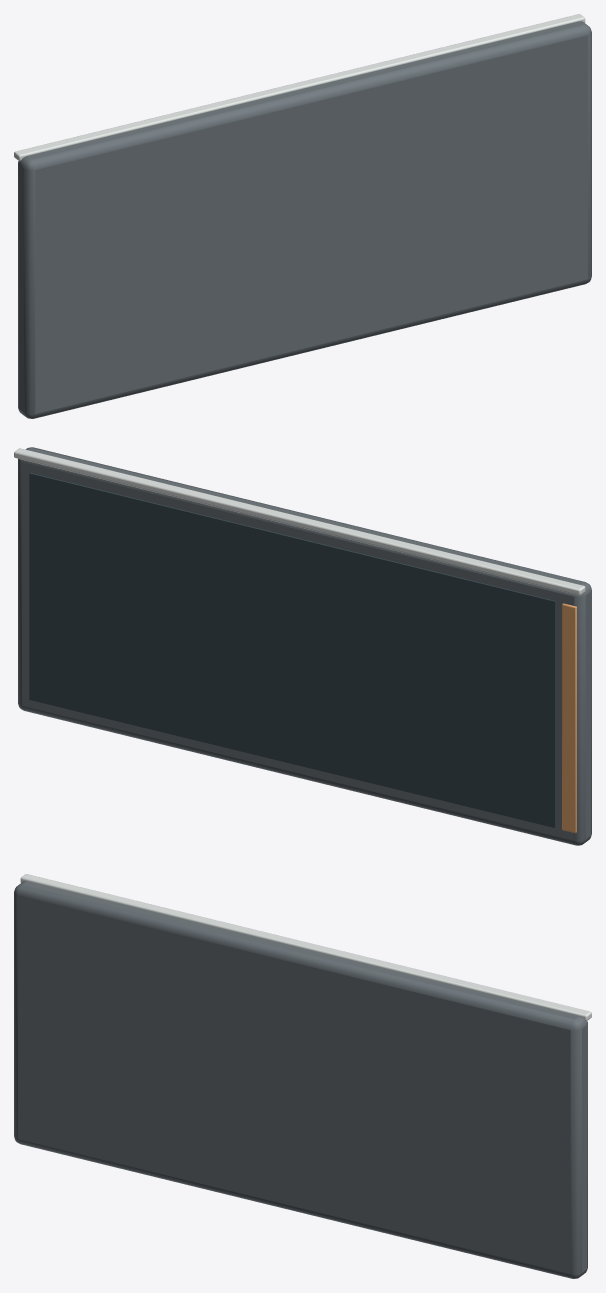
The model's file is wayfinding_panel.glb.
The picture shows the model from 3 angles, top to bottom: view 1: azimuth 30°, elevation 25°; view 2: azimuth 150°, elevation 25°; view 3: azimuth 330°, elevation 25°; orthographic projection.
Parts seen in each view (by area): view 1: frame_graphite, top_trim_satin_steel; view 2: display_screen_glass_dark_glass, frame_graphite, top_trim_satin_steel, side_bar_orange; view 3: frame_graphite, top_trim_satin_steel.
Boxes of the visible parts, box(x1,y1,x2,y2) form: frame_graphite: box(18, 21, 591, 418); top_trim_satin_steel: box(14, 14, 585, 161); display_screen_glass_dark_glass: box(29, 473, 555, 827); frame_graphite: box(18, 447, 591, 845); top_trim_satin_steel: box(14, 448, 585, 595); side_bar_orange: box(562, 603, 576, 833); frame_graphite: box(14, 881, 587, 1278); top_trim_satin_steel: box(20, 874, 591, 1021).
Bounding box in the file's own units: 1.1 × 0.484 × 0.05.
